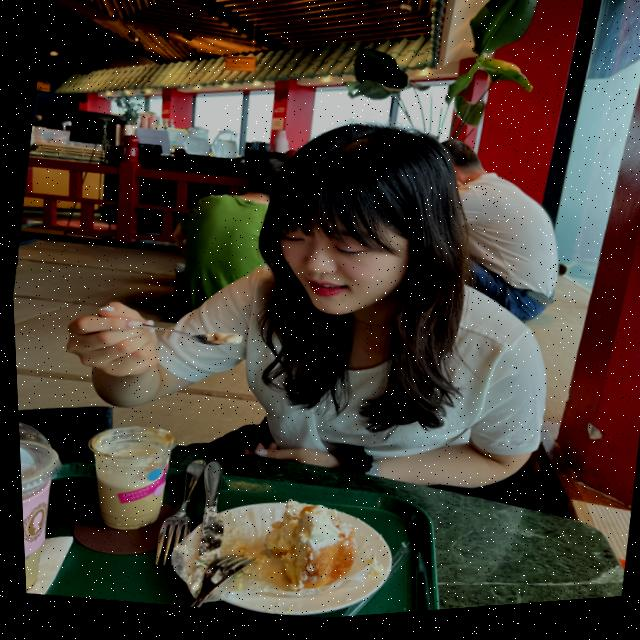eating-person: (30, 55, 603, 553)
